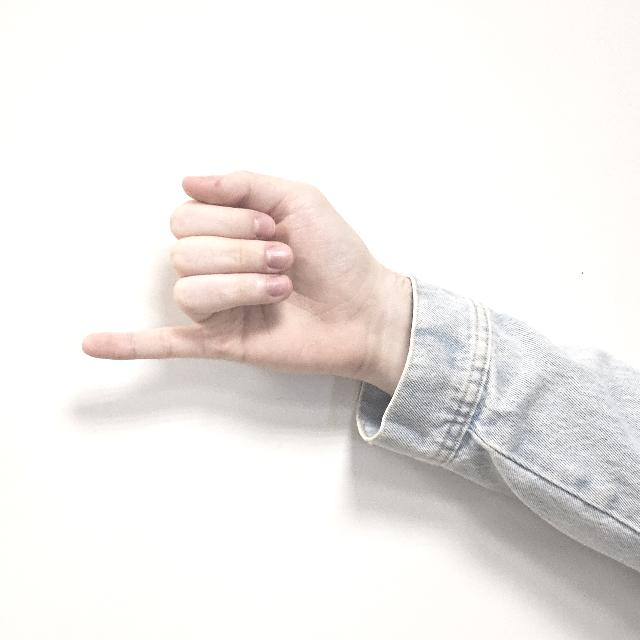Esquerda: (71, 154, 401, 430)
